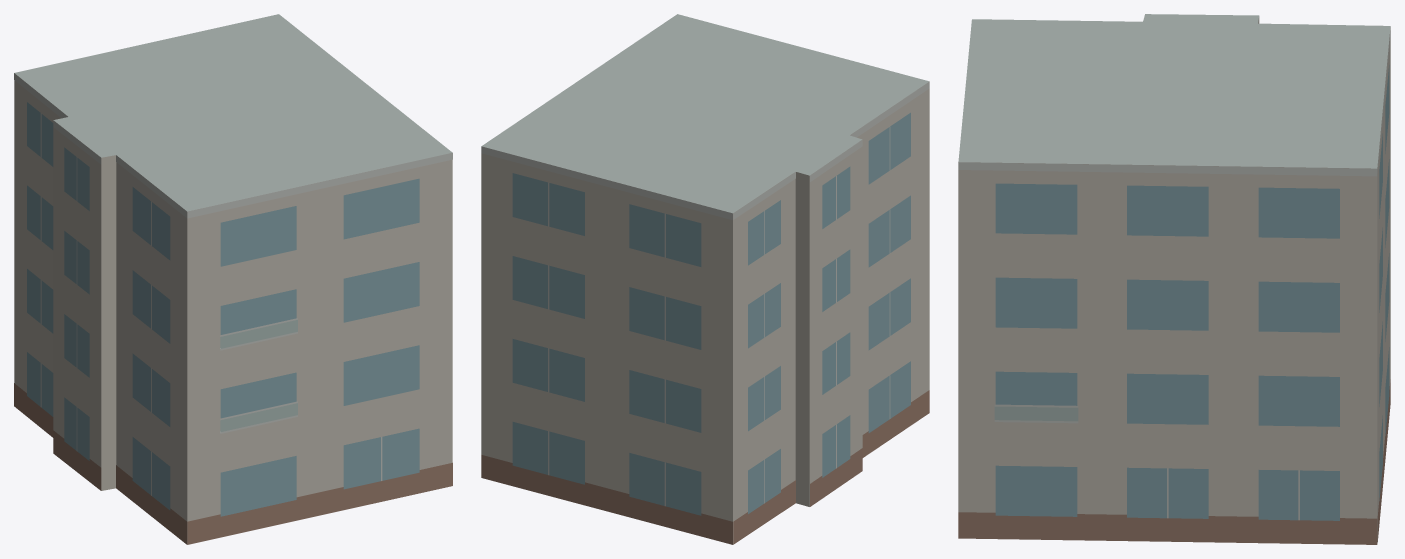
File: survey-upis-32854843.glb
3 views of the same model, side by side, from view 1: azimuth 30°, elevation 25°; view 2: azimuth 150°, elevation 25°; view 3: azimuth 270°, elevation 25° (orthographic). The views are drawn at different scales.
Parts seen in each view (by area): view 1: survey-upis-32854843.tmp; view 2: survey-upis-32854843.tmp; view 3: survey-upis-32854843.tmp.
Part boxes in pixels (x1,y1,x2,y2): survey-upis-32854843.tmp: [14, 14, 452, 544]; survey-upis-32854843.tmp: [481, 14, 929, 544]; survey-upis-32854843.tmp: [958, 14, 1390, 544].
Bounding box in the file's own units: 10.31 × 11.7 × 12.19.
